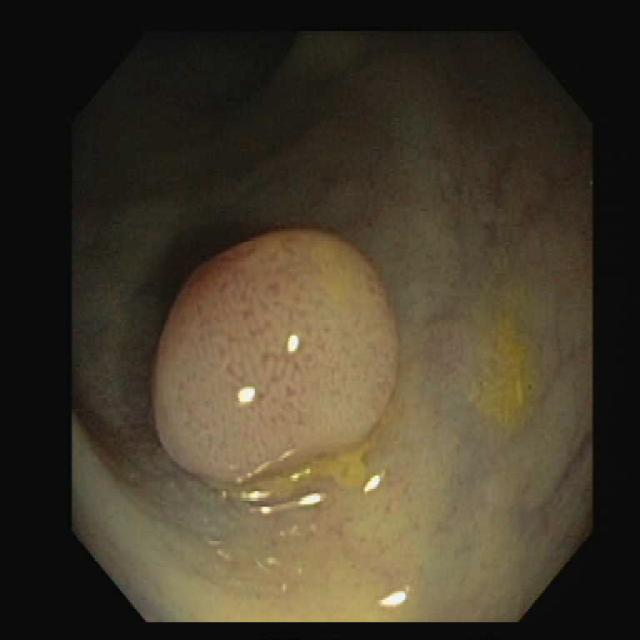tumor: (152, 229, 397, 498)
